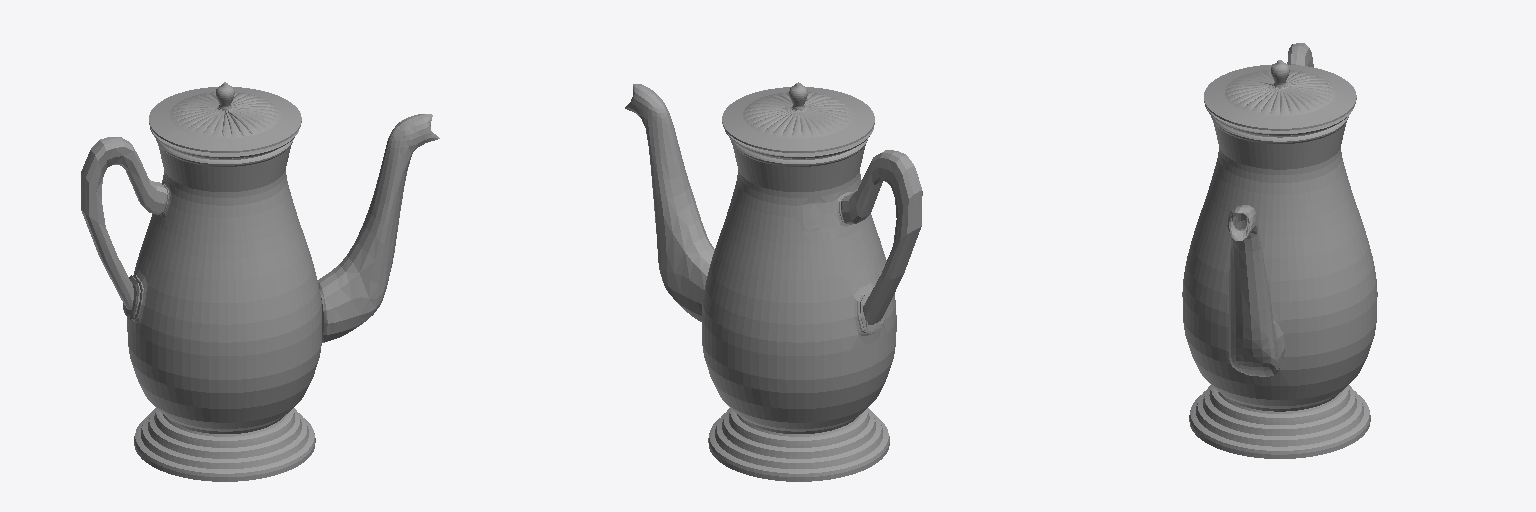
File: vaso004.obj
The picture shows the model from 3 angles: view 1: azimuth 30°, elevation 25°; view 2: azimuth 150°, elevation 25°; view 3: azimuth 270°, elevation 25°; orthographic projection.
Parts seen in each view (by area): view 1: Circle; view 2: Circle; view 3: Circle.
Boxes of the visible parts, box(x1,y1,x2,y2) form: Circle: box(81, 82, 439, 481); Circle: box(625, 82, 922, 481); Circle: box(1182, 43, 1377, 458).
Bounding box in the file's own units: 4.12 × 4.36 × 2.14.